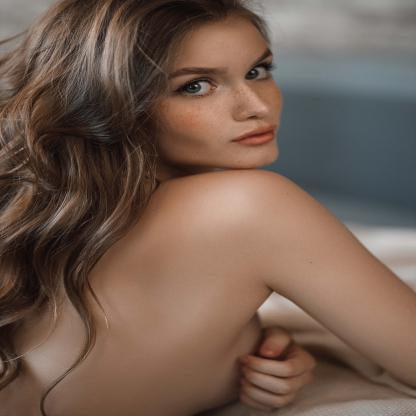Eye: (176, 72, 224, 102), (239, 57, 280, 87)
Mouth: (230, 122, 288, 148)
Nose: (231, 82, 273, 124)
